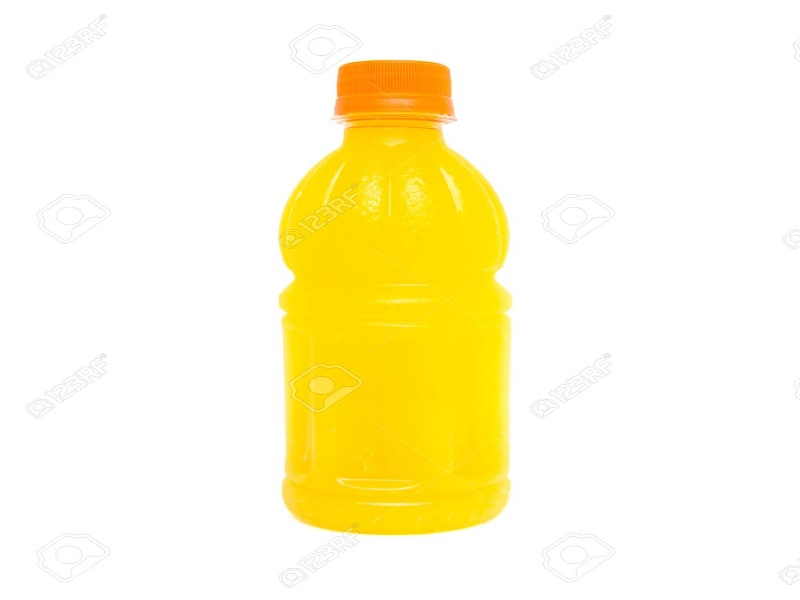Jugo de naranja: (281, 60, 512, 534)
